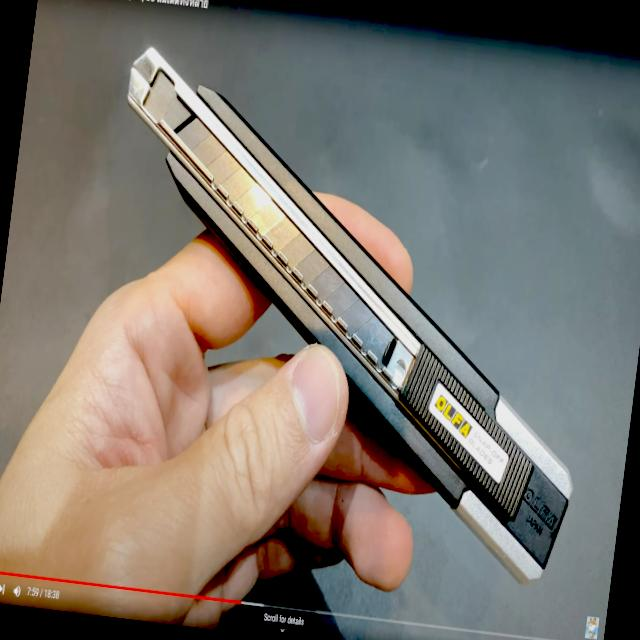cutter: (49, 17, 640, 614)
